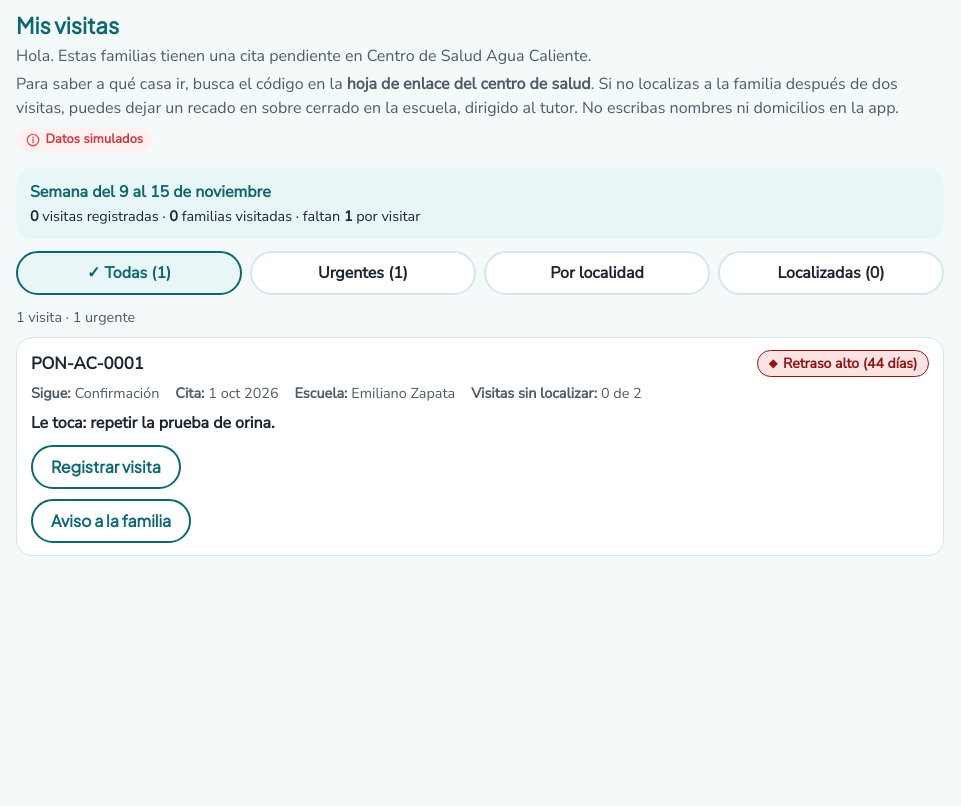
Aviso a la familia (HU06) › si el navegador no tiene voz, lo dice
Click the button "Aviso a la familia" at (111, 521), box [31,499,191,543]
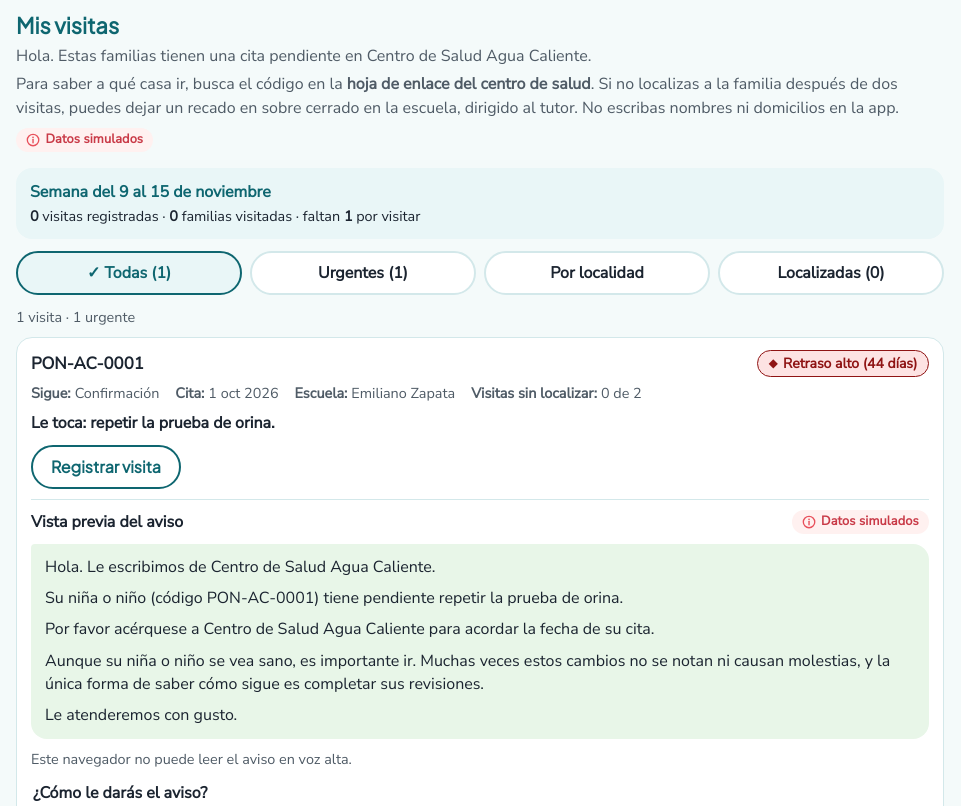
Check: the text "Este navegador no puede leer el aviso en voz alta." is shown, box [31,749,352,769]
